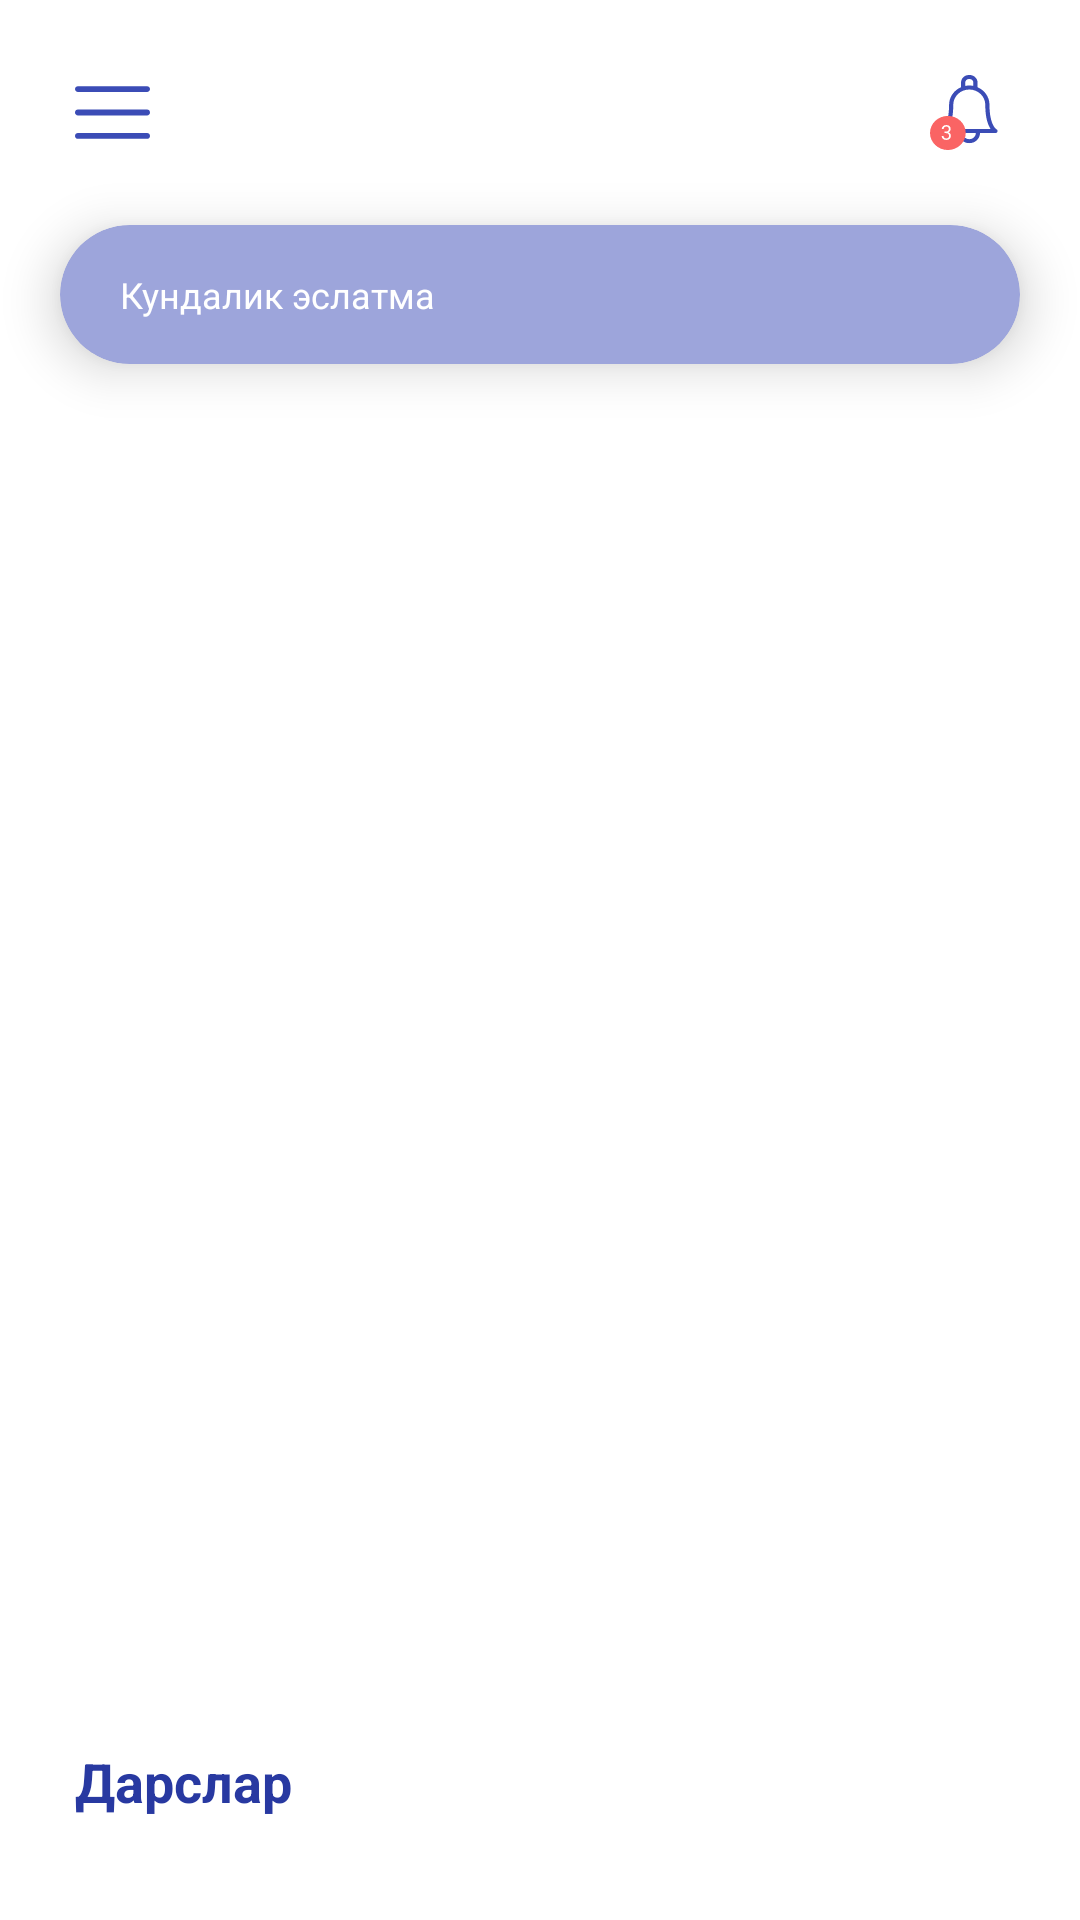

Locate icon controls on the screen. Image size 1080px×1920px, boxes as rect(x1, y1, x2, y2).
menu: rect(75, 86, 150, 139)
notif: rect(930, 75, 998, 150)
